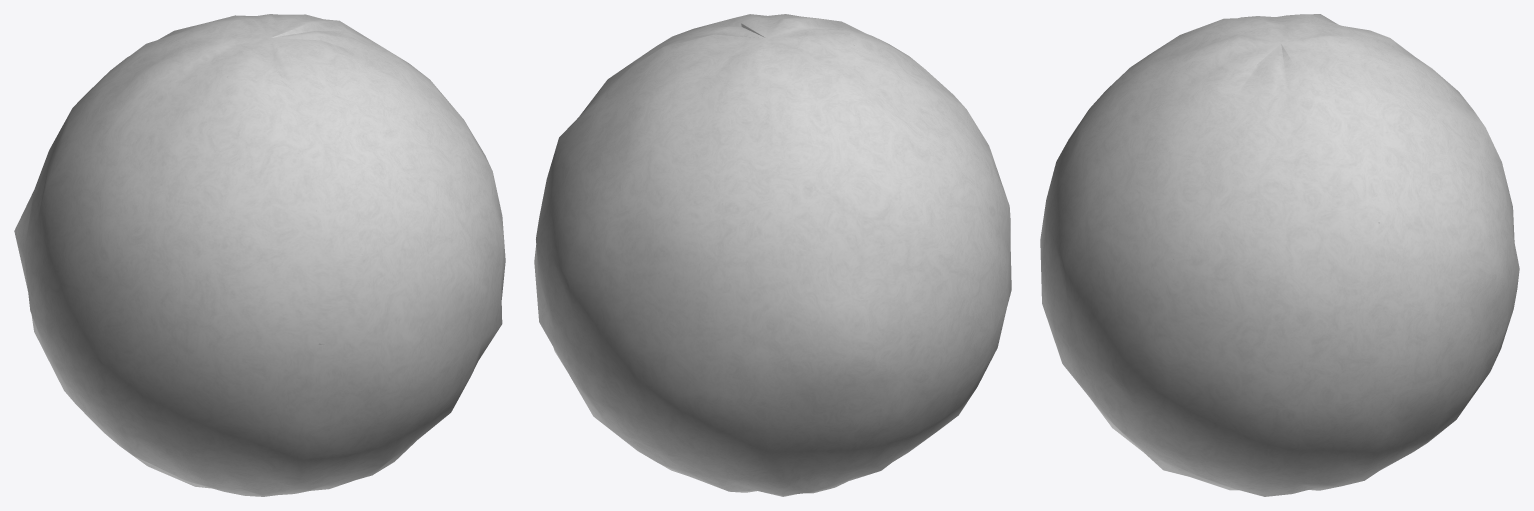
Rendered from Snowball.fbx.
3 renders of one model, left to right at view 1: azimuth 30°, elevation 25°; view 2: azimuth 150°, elevation 25°; view 3: azimuth 270°, elevation 25°, orthographic.
Parts seen in each view (by area): view 1: Sphere.003; view 2: Sphere.003; view 3: Sphere.003.
Part boxes in pixels (bbox=[...]): Sphere.003: bbox=[14, 14, 505, 496]; Sphere.003: bbox=[534, 14, 1011, 496]; Sphere.003: bbox=[1040, 14, 1519, 496].
Size of the model in its own units: 29.93 by 30.24 by 30.07.
Materials: 1 (1 with a texture image).
